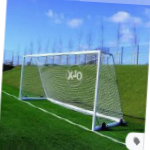goals: (18, 50, 125, 129)
